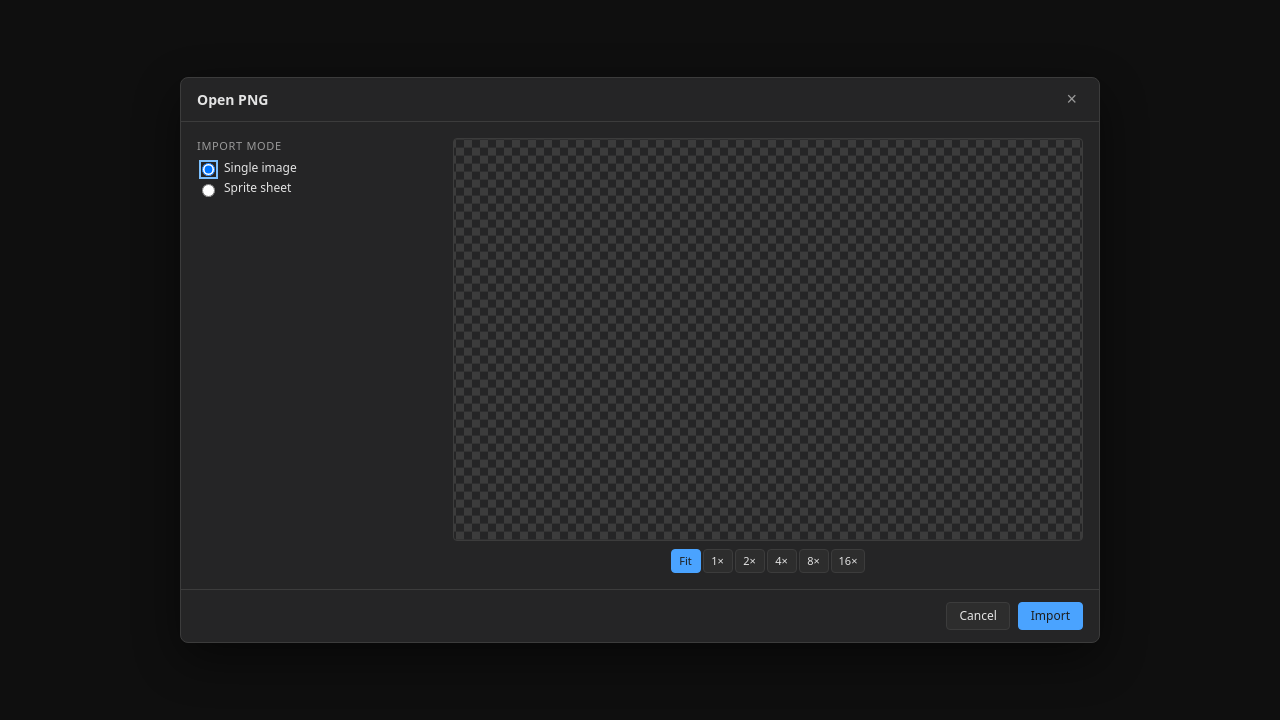
ImportPngDialog › blocks import and explains why when the frame size does not divide the sheet
This screenshot has width=1280, height=720.
Click the radio button labelled "Sprite sheet": point(208, 190) [202, 184, 215, 197]
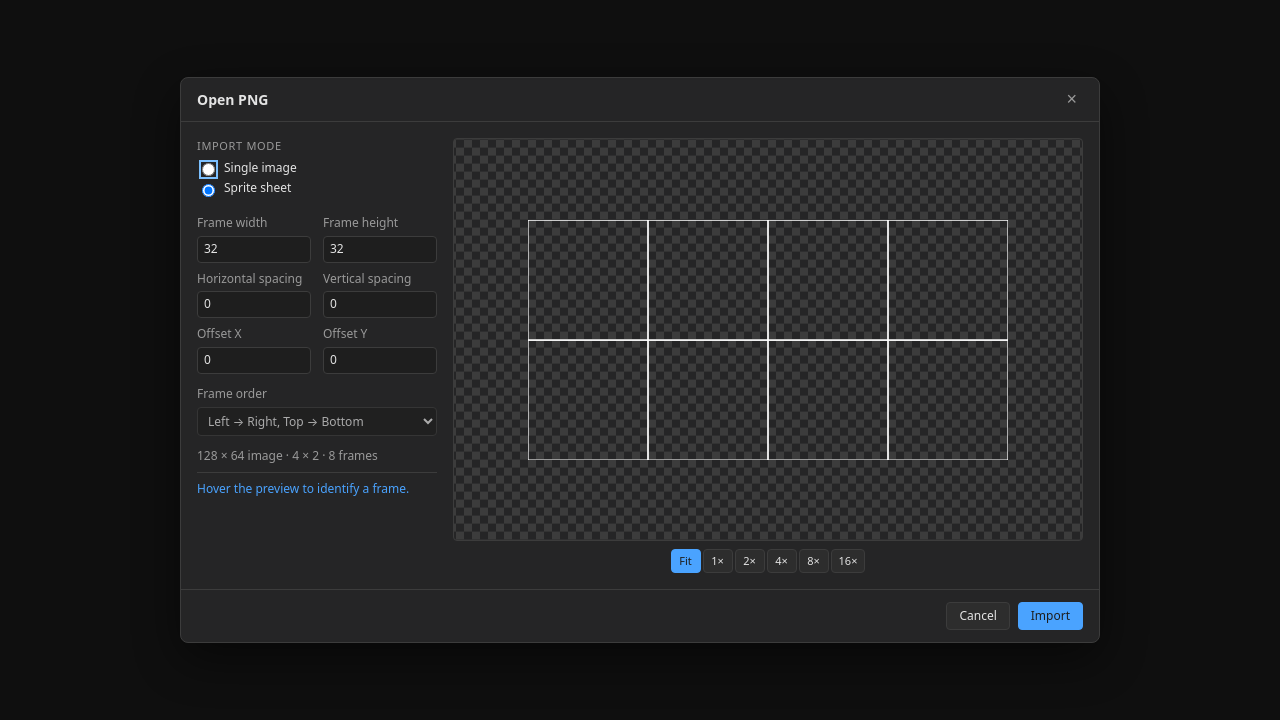
Replace the text in the number field labelled "Frame width" with "30": point(254, 249) [197, 236, 311, 263]
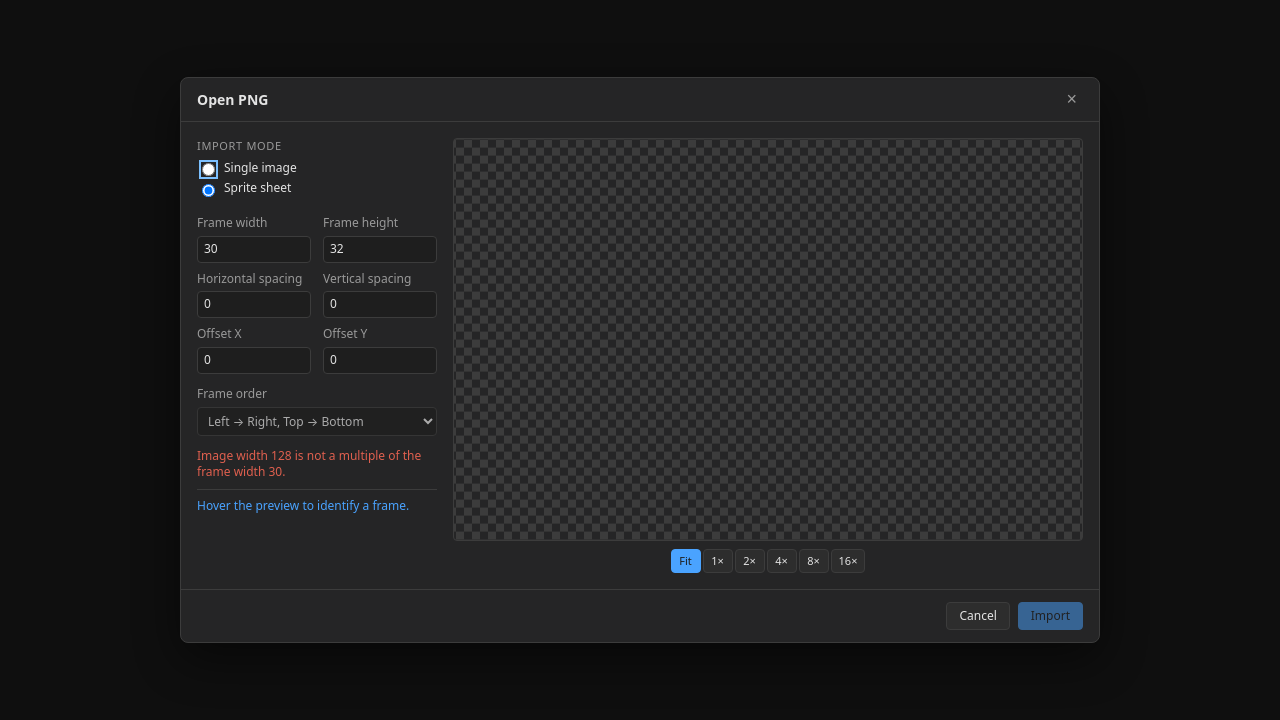
Result: the message shows "multiple of the frame width" at [197, 447, 421, 480]
Result: the button "Import" is disabled at [1018, 602, 1083, 630]
